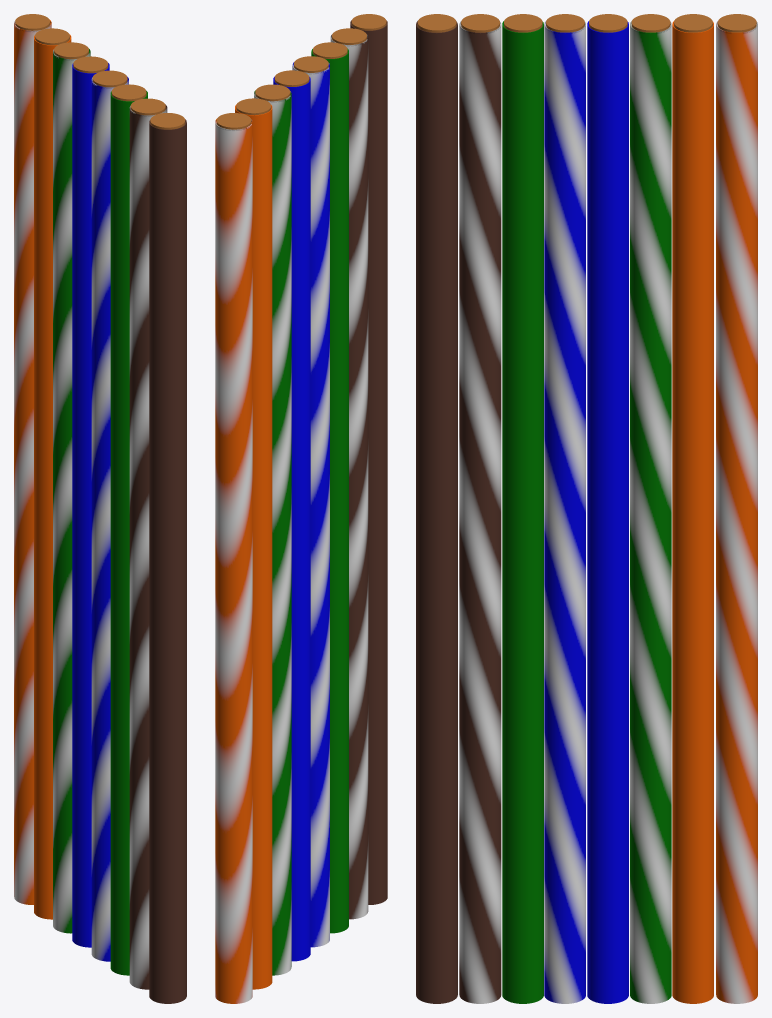
File: Cable Lurus.fbx
3 renders of one model, left to right at view 1: azimuth 30°, elevation 25°; view 2: azimuth 150°, elevation 25°; view 3: azimuth 270°, elevation 25°, orthographic. The views are drawn at different scales.
Parts seen in each view (by area): view 1: Oren-Putih, Oren-Putih.001, Oren-Putih.007, Oren-Putih.004, Oren-Putih.002, Oren-Putih.005, Oren-Putih.003, Oren-Putih.006, Tembaga.004, Tembaga.001, Tembaga.002, Tembaga.003 (+4 smaller); view 2: Oren-Putih.007, Oren-Putih.006, Oren-Putih, Oren-Putih.003, Oren-Putih.001, Oren-Putih.004, Oren-Putih.005, Oren-Putih.002, Tembaga.005, Tembaga.006, Tembaga.004, Tembaga (+4 smaller); view 3: Oren-Putih.001, Oren-Putih, Oren-Putih.002, Oren-Putih.005, Oren-Putih.004, Oren-Putih.007, Oren-Putih.003, Oren-Putih.006.
Part boxes in pixels (box(x1,y1,x2,y2)): Oren-Putih: box(149, 119, 186, 1003); Oren-Putih.001: box(129, 104, 167, 989); Oren-Putih.007: box(14, 20, 51, 904); Oren-Putih.004: box(72, 63, 109, 947); Oren-Putih.002: box(110, 91, 147, 975); Oren-Putih.005: box(53, 49, 90, 933); Oren-Putih.003: box(91, 77, 128, 961); Oren-Putih.006: box(34, 34, 71, 919); Tembaga.004: box(73, 56, 108, 73); Tembaga.001: box(130, 98, 165, 115); Tembaga.002: box(111, 84, 146, 101); Tembaga.003: box(92, 70, 127, 87); Oren-Putih.007: box(215, 119, 252, 1003); Oren-Putih.006: box(235, 104, 272, 989); Oren-Putih: box(350, 20, 387, 904); Oren-Putih.003: box(292, 62, 329, 947); Oren-Putih.001: box(330, 35, 368, 919); Oren-Putih.004: box(273, 76, 310, 961); Oren-Putih.005: box(254, 90, 291, 975); Oren-Putih.002: box(311, 48, 348, 933); Tembaga.005: box(255, 84, 290, 101); Tembaga.006: box(236, 98, 271, 115); Tembaga.004: box(274, 70, 309, 86); Tembaga: box(351, 14, 386, 30); Oren-Putih.001: box(459, 21, 501, 1003); Oren-Putih: box(416, 21, 457, 1003); Oren-Putih.002: box(502, 21, 543, 1003); Oren-Putih.005: box(630, 21, 671, 1003); Oren-Putih.004: box(587, 21, 628, 1003); Oren-Putih.007: box(716, 21, 757, 1003); Oren-Putih.003: box(544, 21, 585, 1003); Oren-Putih.006: box(672, 21, 713, 1003).
Size of the model in its own units: 0.00516 by 0.1323 by 0.0421.
Materials: 16 (4 with a texture image).
